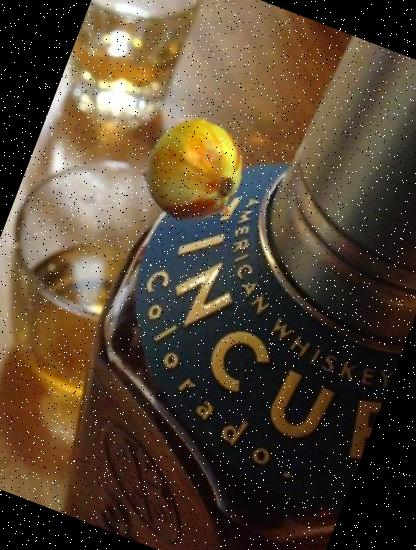Onion: (128, 104, 264, 240)
